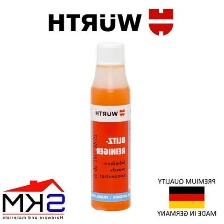cleaning_solution: (87, 38, 134, 213)
